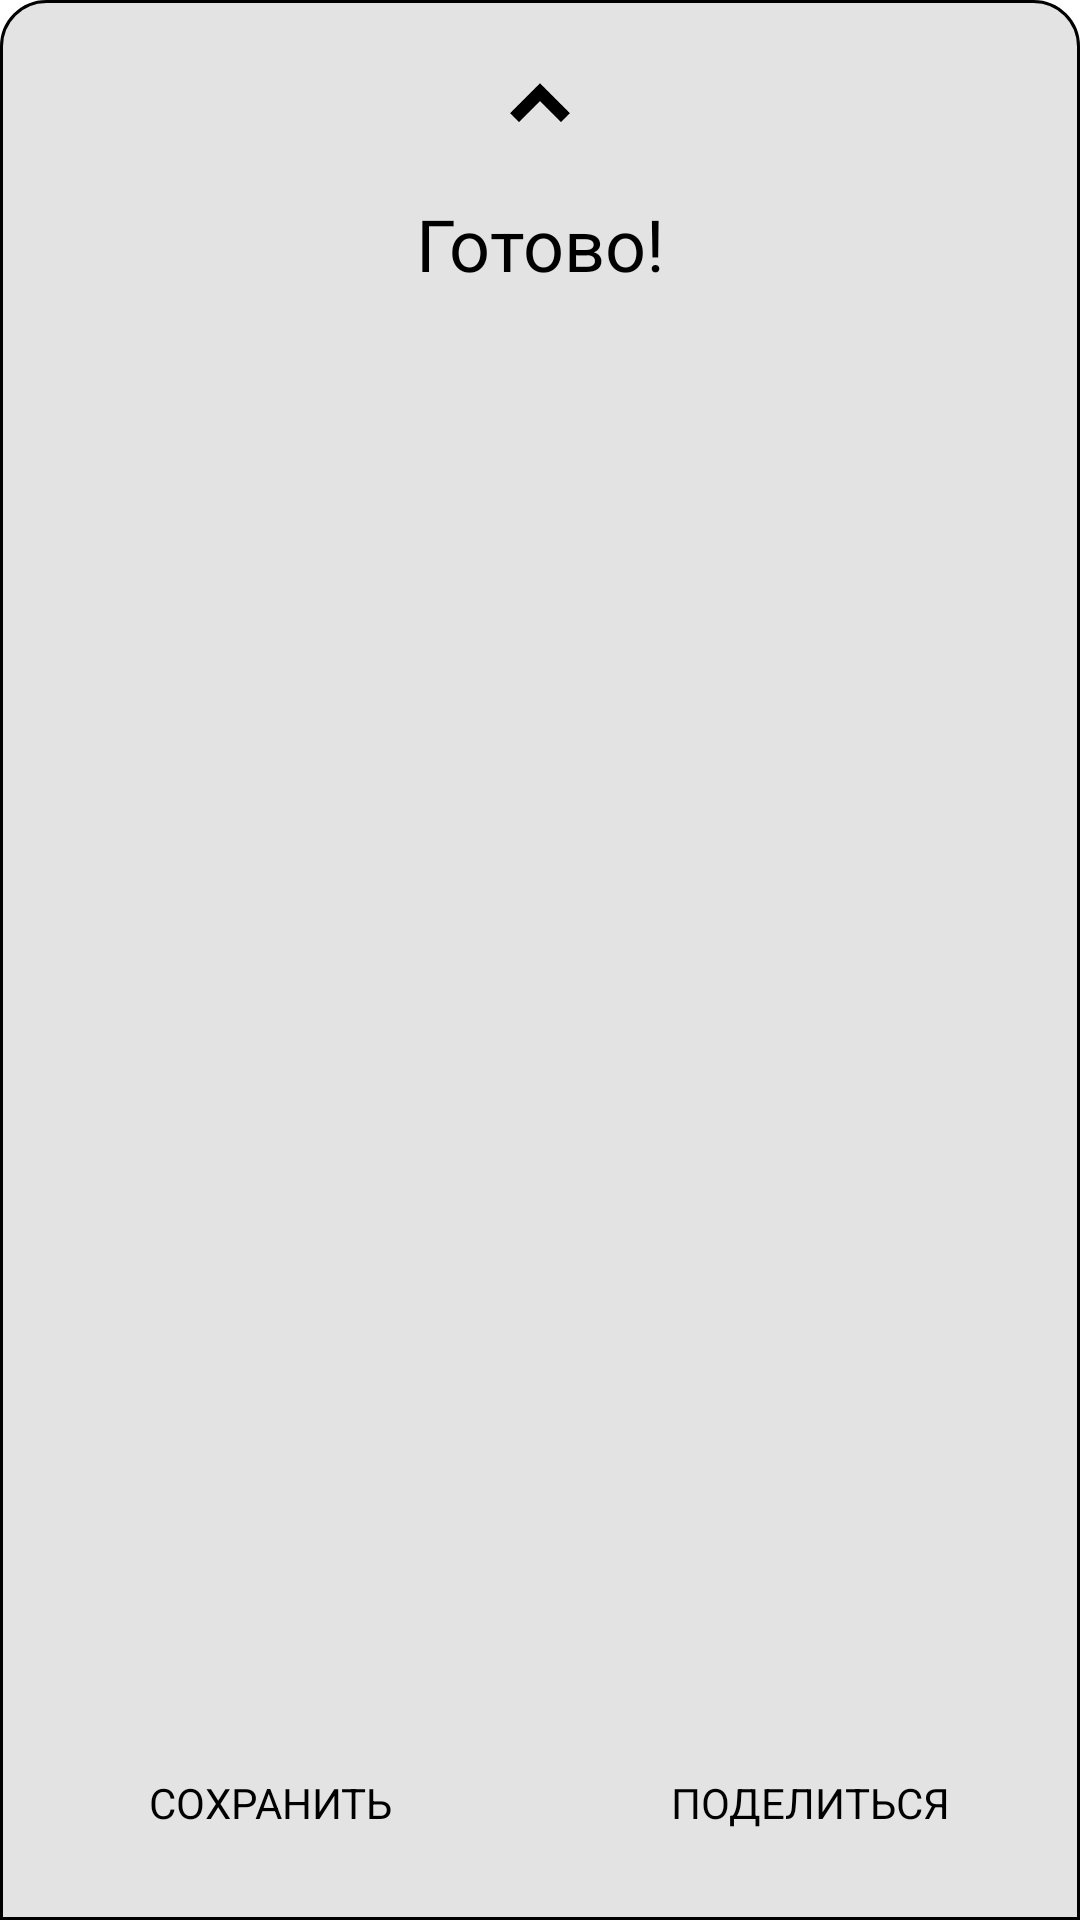

Icon click points for this 1080x1920 phone screenshot, format point (x, y):
arrow up: point (540, 102)
